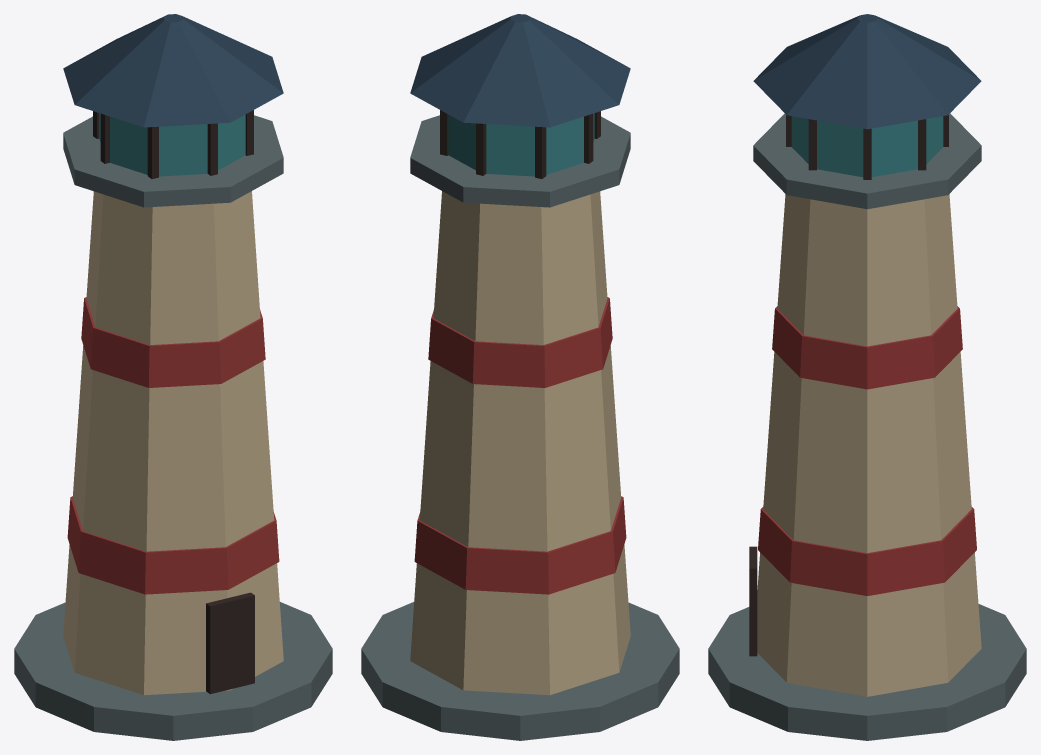
Rendered from PirateCove_Lighthouse_Simple.glb.
The picture shows the model from 3 angles, left to right: view 1: azimuth 30°, elevation 25°; view 2: azimuth 150°, elevation 25°; view 3: azimuth 270°, elevation 25°; orthographic projection.
Visible parts, largest first — view 1: PirateCove_Lighthouse_Simple; view 2: PirateCove_Lighthouse_Simple; view 3: PirateCove_Lighthouse_Simple.
Part boxes in pixels (<box>): PirateCove_Lighthouse_Simple: <box>14,14,332,740</box>; PirateCove_Lighthouse_Simple: <box>361,14,679,740</box>; PirateCove_Lighthouse_Simple: <box>708,14,1026,740</box>.
Size of the model in its own units: 4.6 by 10.45 by 4.6.
